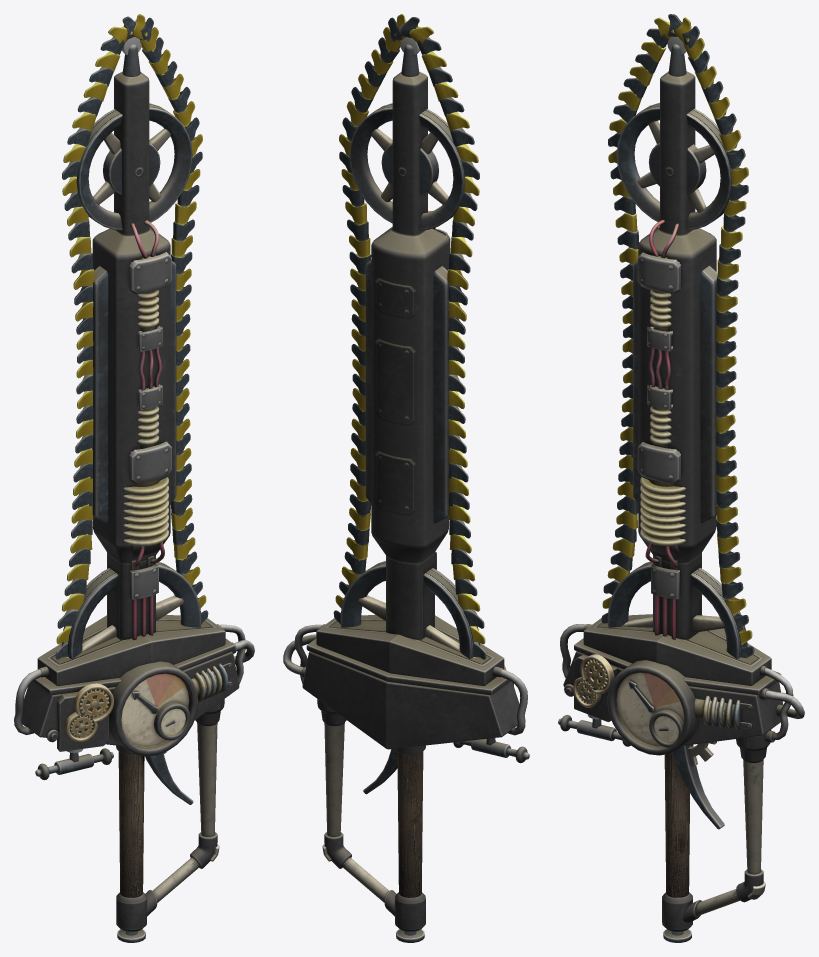
The model's file is sm_sword_170.gltf.
3 views of the same model, side by side, from view 1: azimuth 30°, elevation 25°; view 2: azimuth 150°, elevation 25°; view 3: azimuth 330°, elevation 25° (orthographic).
Parts seen in each view (by area): view 1: sm_sword_170; view 2: sm_sword_170; view 3: sm_sword_170.
Part boxes in pixels (x1=…): sm_sword_170: x1=14, y1=14, x2=254, y2=942; sm_sword_170: x1=283, y1=14, x2=529, y2=942; sm_sword_170: x1=558, y1=14, x2=804, y2=942.
Bounding box in the file's own units: 0.4083 × 1.5 × 0.1513.
Materials: 1 (1 with a texture image).
